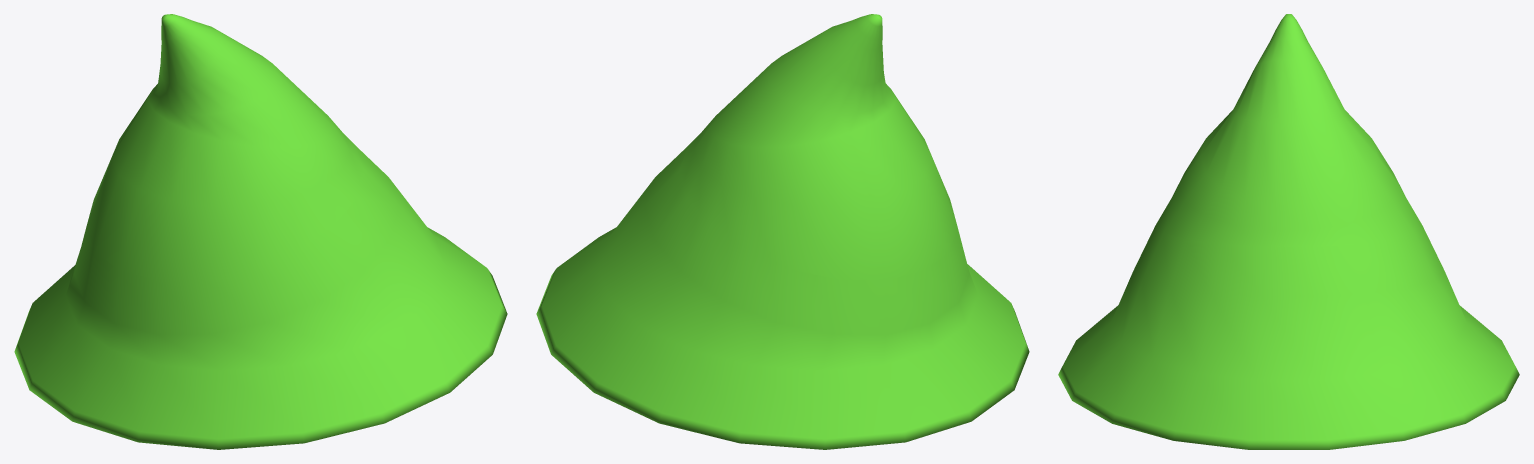
Rendered from sm_feuille2.fbx.
3 views of the same model, side by side, from view 1: azimuth 30°, elevation 25°; view 2: azimuth 150°, elevation 25°; view 3: azimuth 270°, elevation 25° (orthographic). The views are drawn at different scales.
Visible parts, largest first — view 1: bouquetFeuilles2; view 2: bouquetFeuilles2; view 3: bouquetFeuilles2.
Part boxes in pixels (left/top/right/bottom): bouquetFeuilles2: left=14, top=14, right=507, bottom=449; bouquetFeuilles2: left=536, top=14, right=1029, bottom=449; bouquetFeuilles2: left=1058, top=14, right=1519, bottom=449.
Size of the model in its own units: 221 by 183 by 226.
